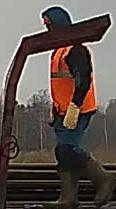gloves: (62, 101, 80, 129), (48, 115, 55, 129)
helmet: (42, 15, 53, 25)
vest: (49, 43, 96, 115)
